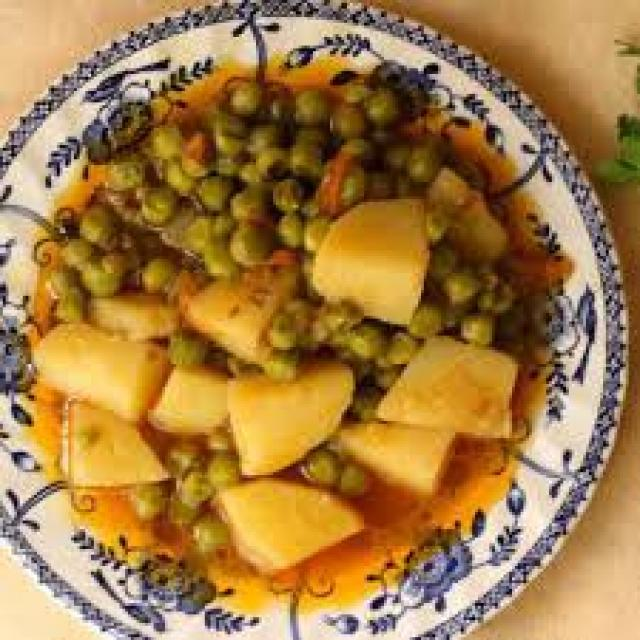Aloo Matar: (48, 68, 533, 590)
